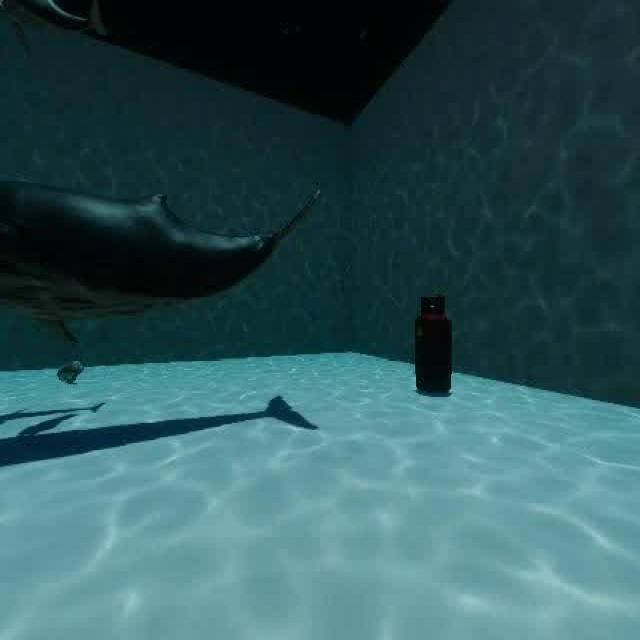Cylinder: (409, 284, 460, 406)
Shell: (48, 348, 94, 388)
Whale: (0, 166, 332, 352), (0, 0, 119, 48)
